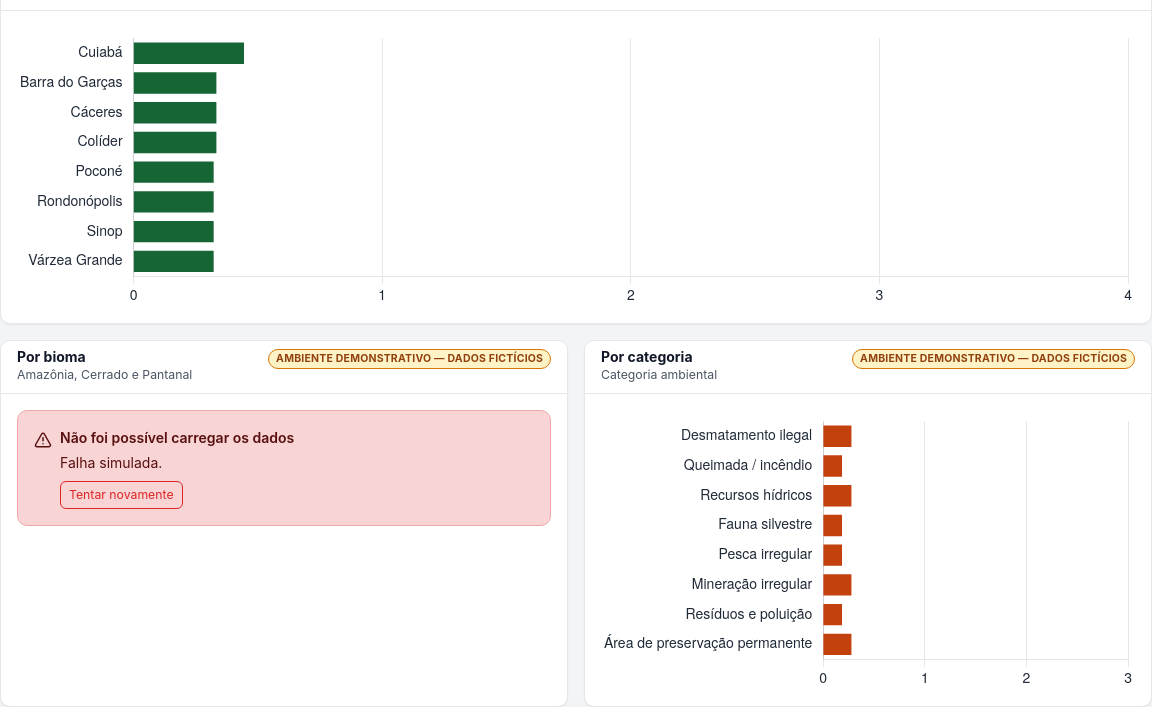
Scenario: IntelligenceDashboardPage › mostra erro só no painel com falha e permite tentar novamente
(page scrolled)
Expected: the message shows "Falha simulada", [60,454,162,471]
Click the button "Tentar novamente": {"x": 121, "y": 495} [60,481,182,509]
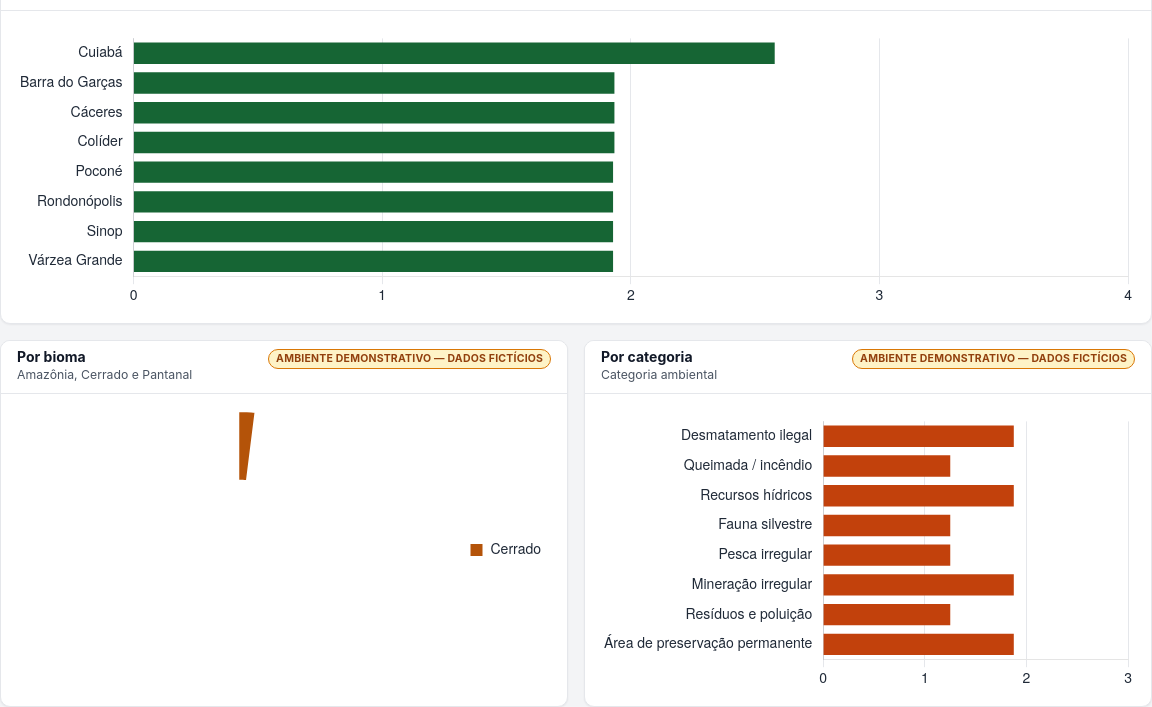
Expected: the picture named "por bioma" is shown, [17,410,551,690]
